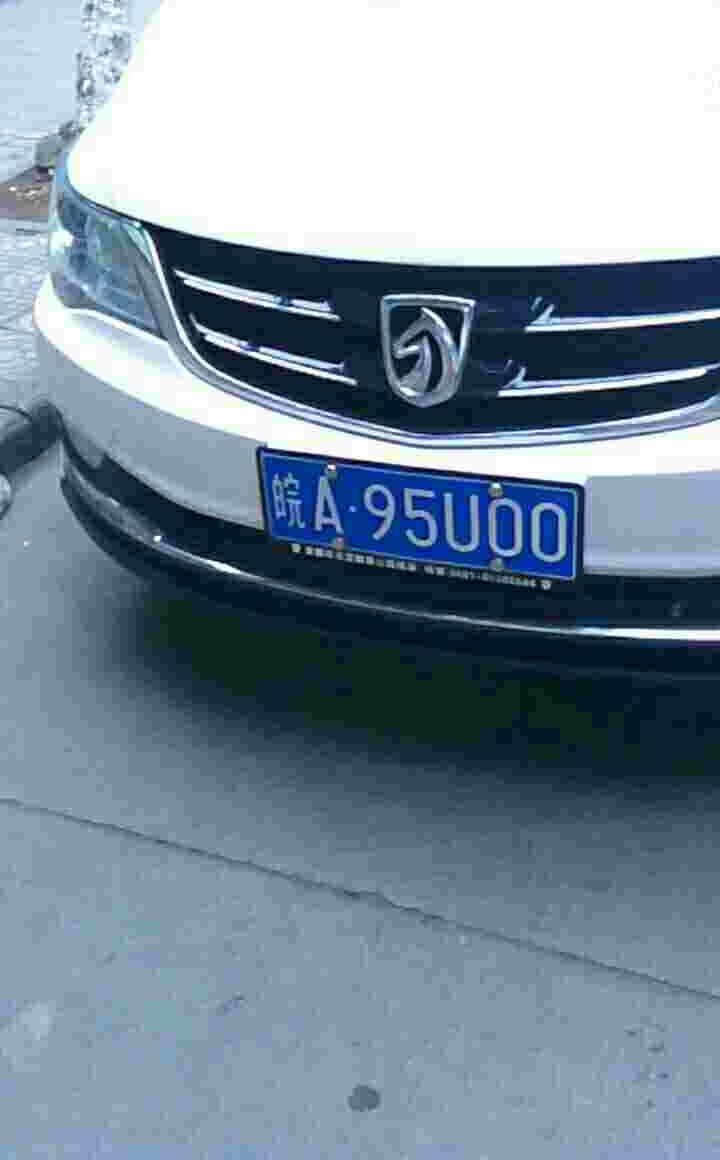license_plate: (255, 453, 586, 580)
